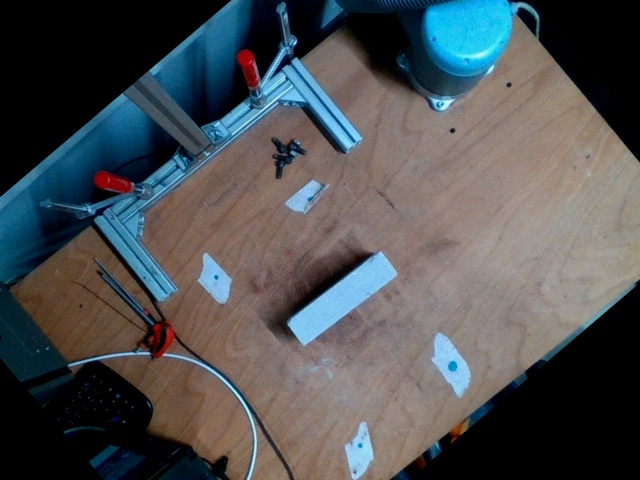brick-side: (286, 252, 398, 346)
